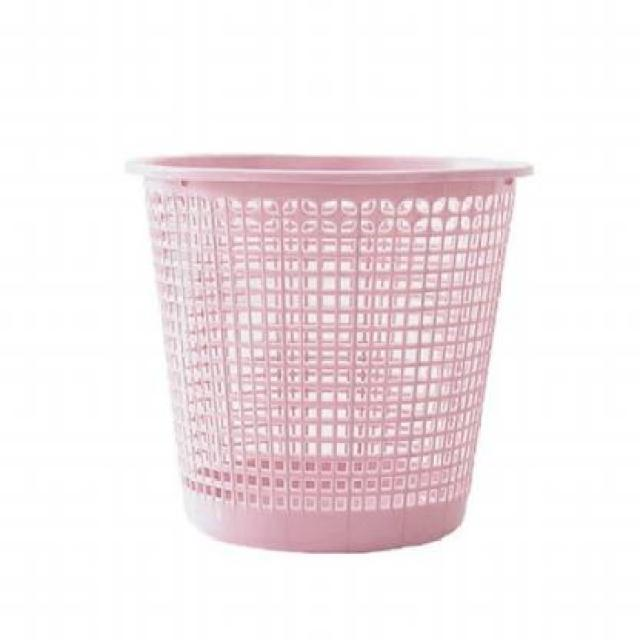dustbin: (122, 146, 539, 559)
